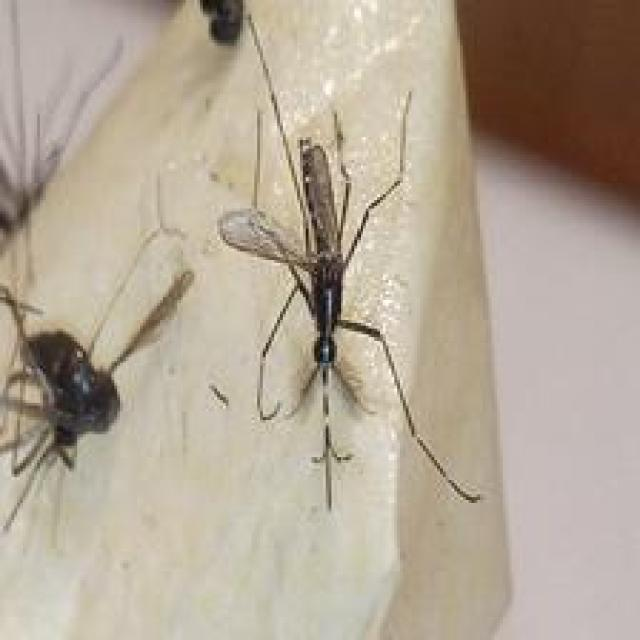Aedes albopictus: (214, 14, 483, 512)
